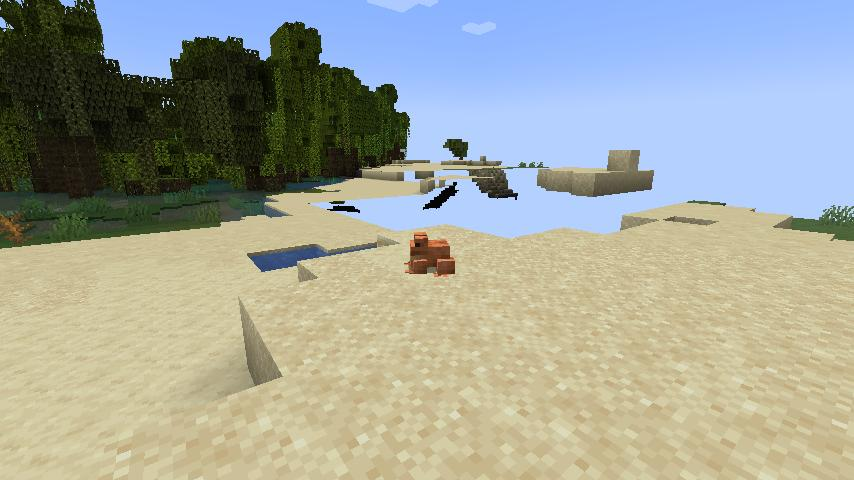frog: (403, 229, 459, 280)
